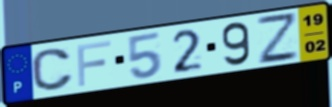2: (171, 27, 205, 74)
5: (126, 30, 164, 81)
9: (221, 20, 252, 67)
C: (30, 47, 76, 93)
F: (75, 39, 113, 88)
Z: (255, 12, 301, 67)
